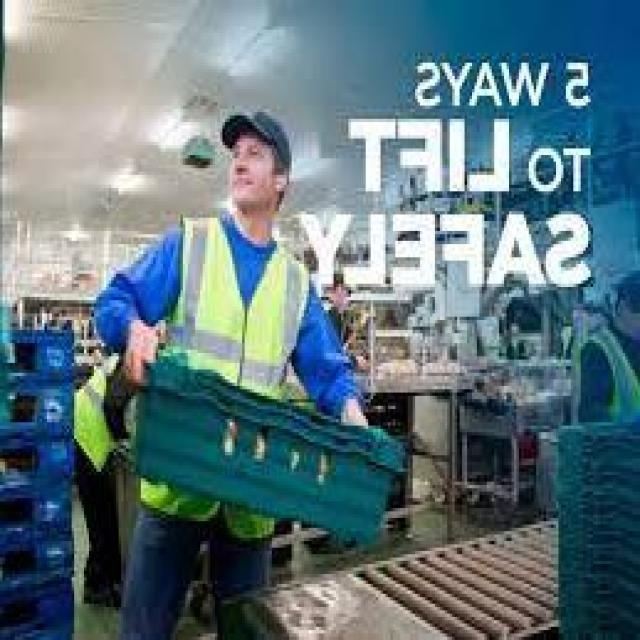Reflective-Jacket: (72, 201, 326, 531)
Safety-Helmet: (208, 92, 306, 175)
